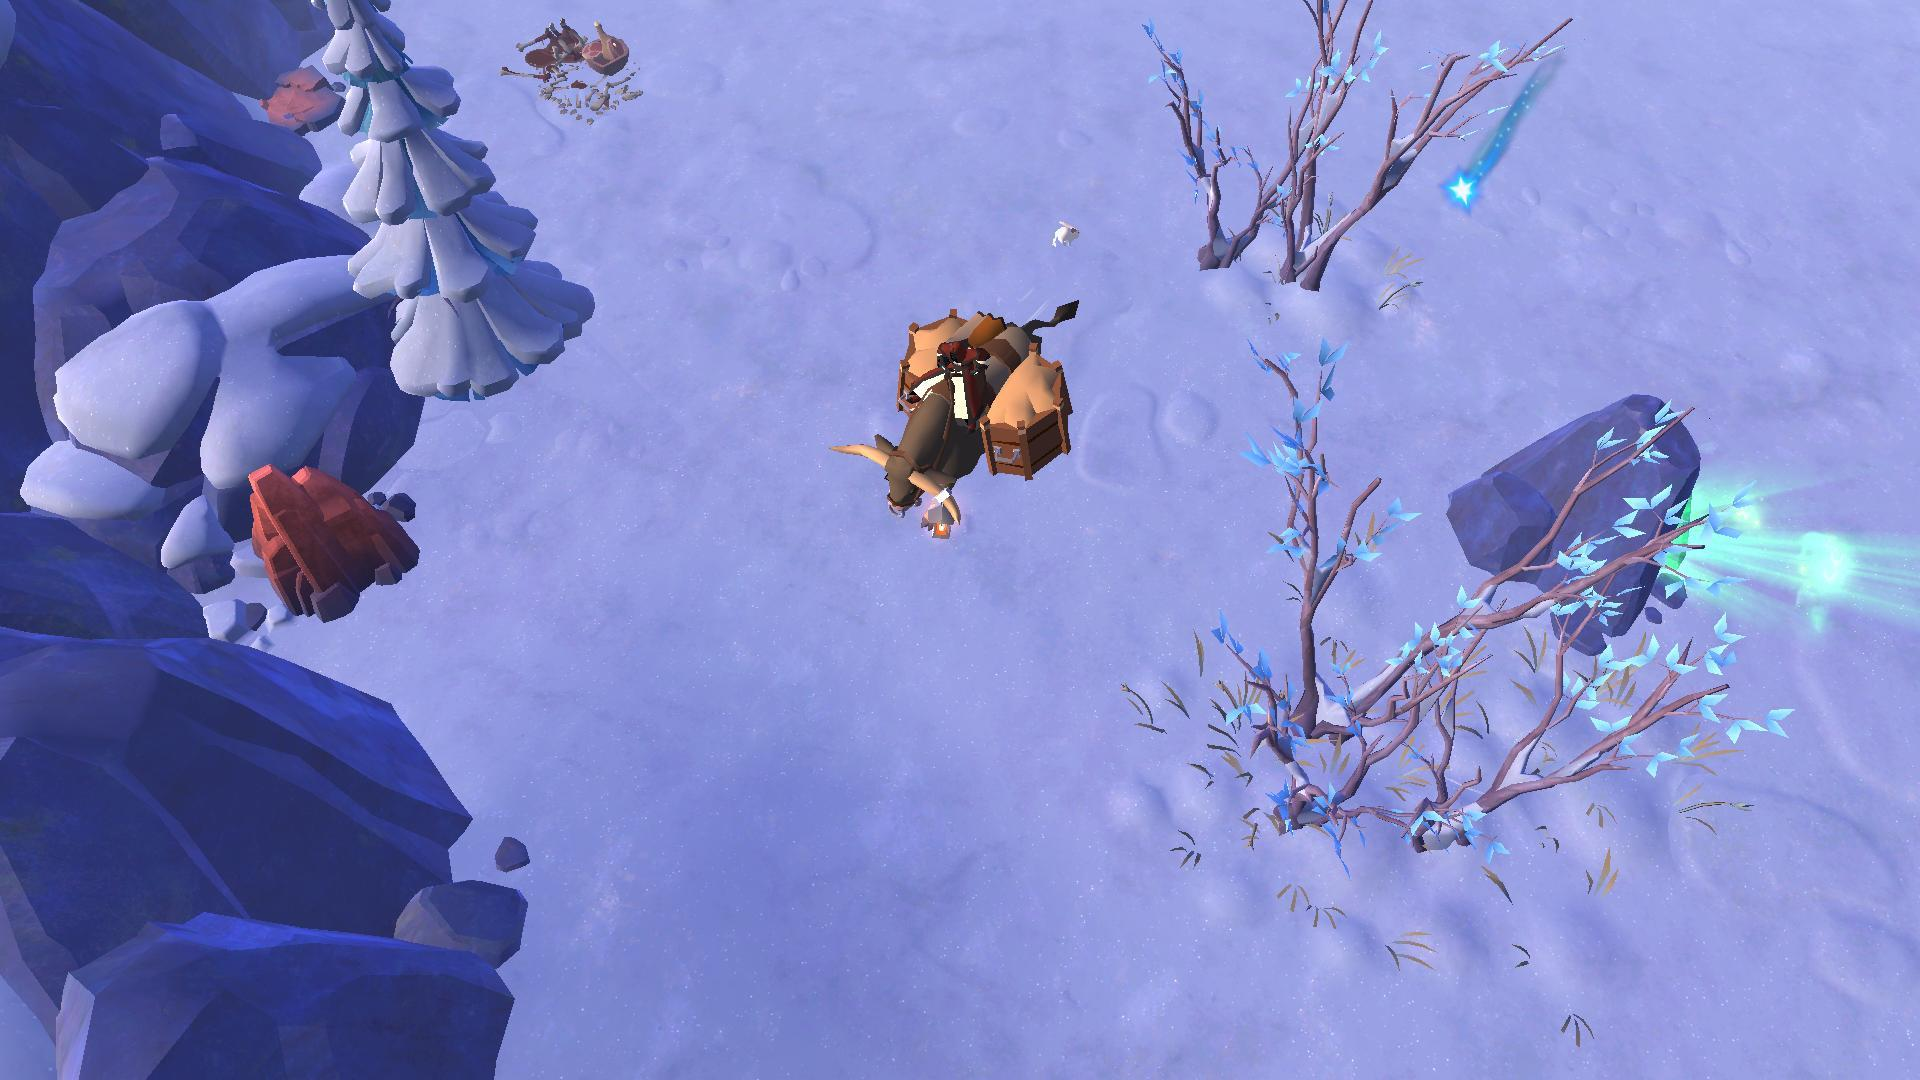rock_t5: (244, 454, 418, 618)
